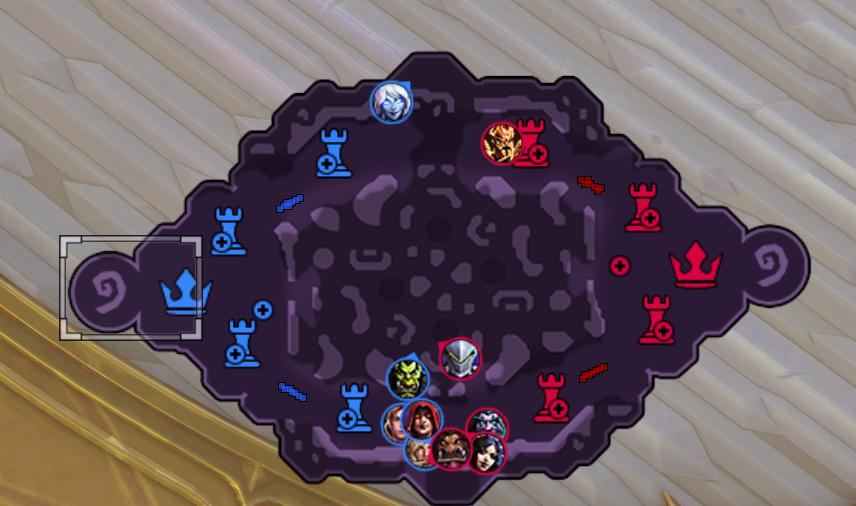blue nexus: (158, 266, 214, 320)
blue player: (385, 354, 428, 400), (369, 80, 412, 124), (402, 398, 442, 441), (380, 402, 411, 445), (403, 434, 438, 471)
blue tower: (209, 204, 248, 256), (314, 126, 352, 178), (223, 316, 261, 368), (334, 381, 371, 433)
red nexus: (668, 237, 727, 290)
red player: (479, 121, 522, 166), (428, 427, 471, 471), (439, 336, 481, 380), (467, 432, 506, 474), (466, 407, 508, 444)
red tower: (529, 370, 573, 424), (514, 116, 557, 170), (636, 293, 677, 348), (622, 180, 663, 234)
